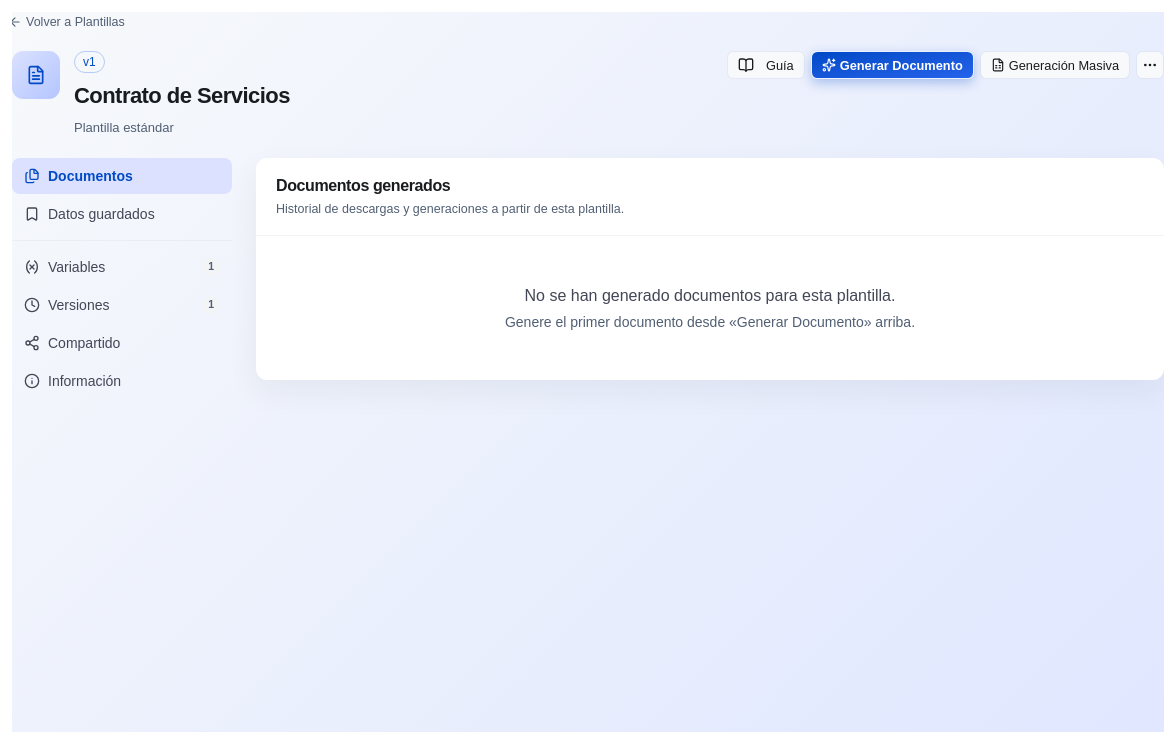
Scenario: TemplateDetail — action row reorganization › shows the permitted 'Renombrar' and 'Eliminar' items for an admin non-owner
The image size is (1176, 732).
Expected: the heading "Contrato de Servicios" is shown, [74,79,290,112]
Click the button named "más acciones": [1150, 65] box [1136,51,1164,79]
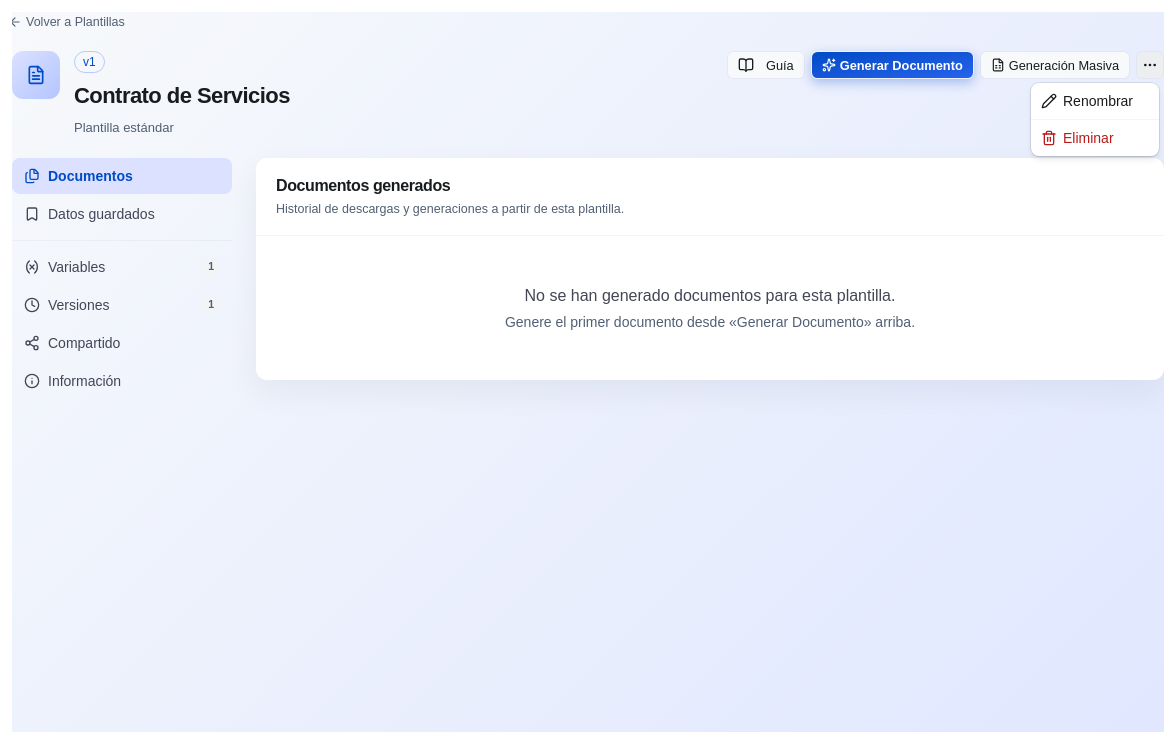
Expected: the menu item "Renombrar" is shown, [1041,93,1133,109]
Expected: the menu item "Eliminar" is shown, [1041,130,1114,146]
